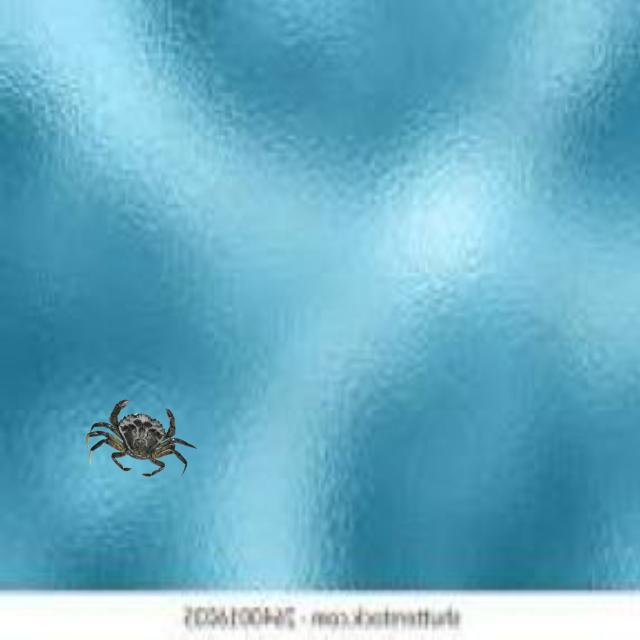European_Green_Crab: (83, 393, 201, 488)
